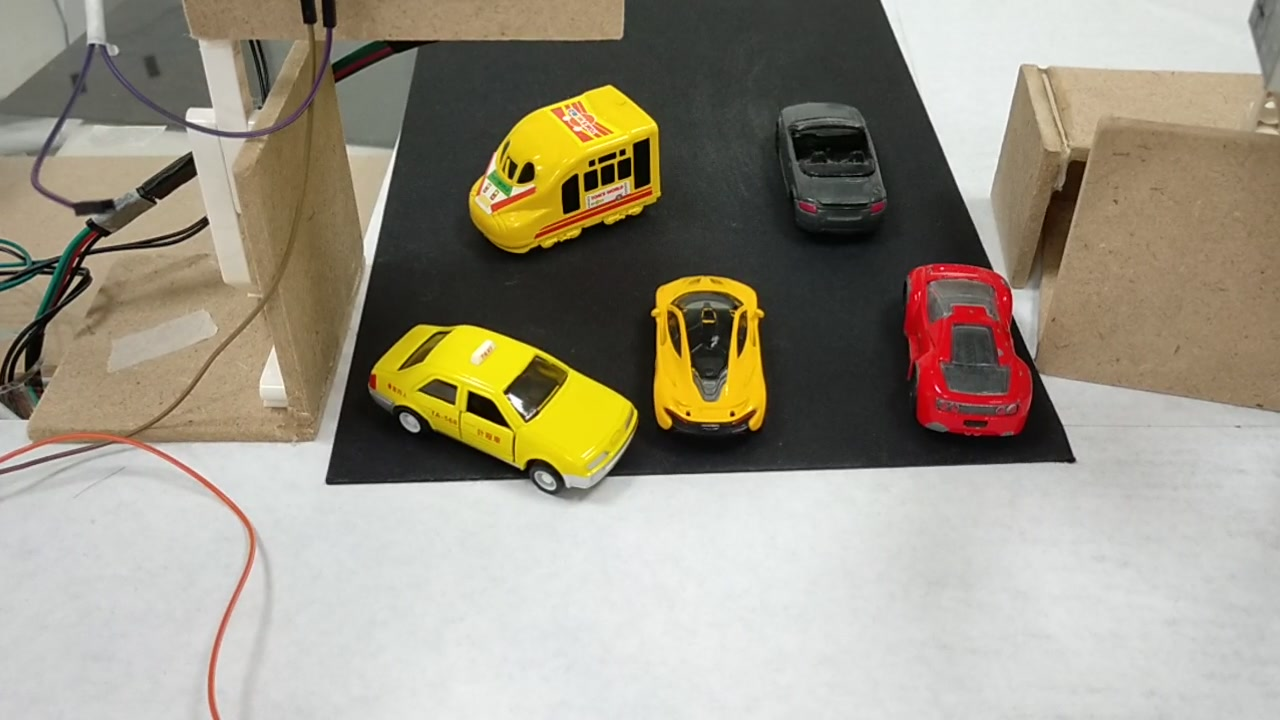car: (351, 323, 639, 503), (903, 260, 1030, 442), (650, 279, 762, 442), (775, 100, 885, 233)
